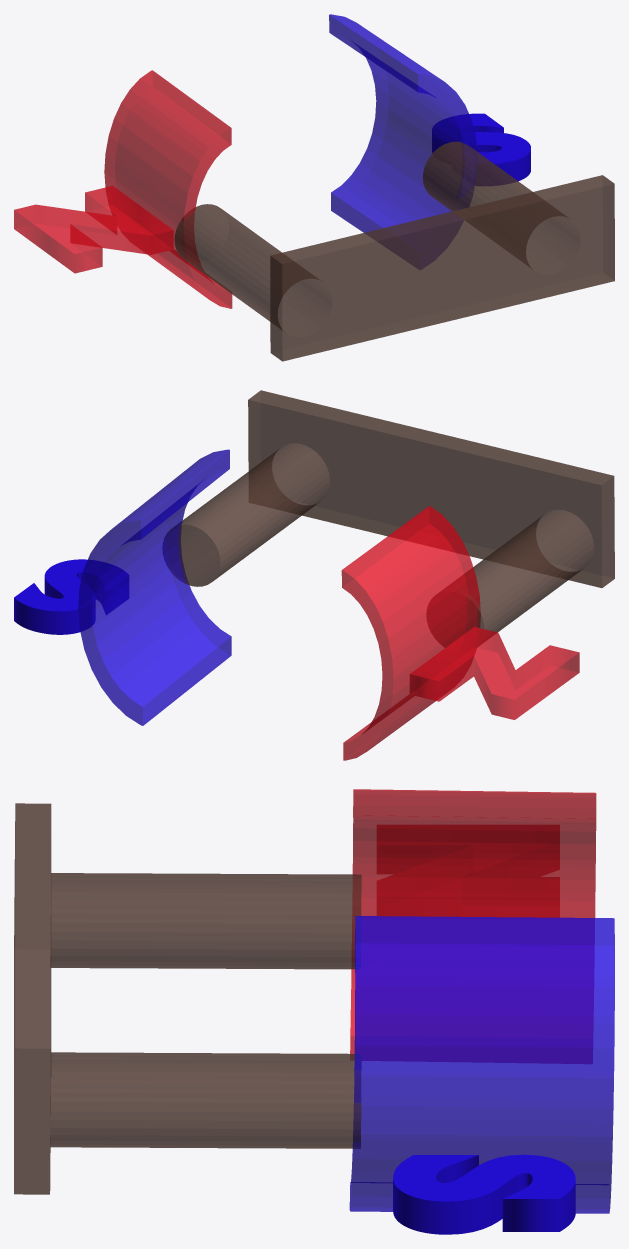
The picture shows the model from 3 angles, top to bottom: view 1: azimuth 30°, elevation 25°; view 2: azimuth 150°, elevation 25°; view 3: azimuth 270°, elevation 25°; orthographic projection. The views are drawn at different scales.
Parts seen in each view (by area): view 1: Cono.004, Text, Text.001; view 2: Cono.004, Text, Text.001; view 3: Cono.004, Text, Text.001.
Part boxes in pixels (box(x1,y1,x2,y2)): Cono.004: box(104, 14, 614, 361); Text: box(14, 185, 173, 273); Text.001: box(432, 113, 530, 185); Cono.004: box(78, 390, 614, 760); Text: box(409, 627, 579, 719); Text.001: box(14, 559, 128, 634); Cono.004: box(14, 789, 614, 1213); Text: box(377, 825, 559, 916); Text.001: box(393, 1154, 575, 1234).
Size of the model in its own units: 3.61 by 2.63 by 1.44.
